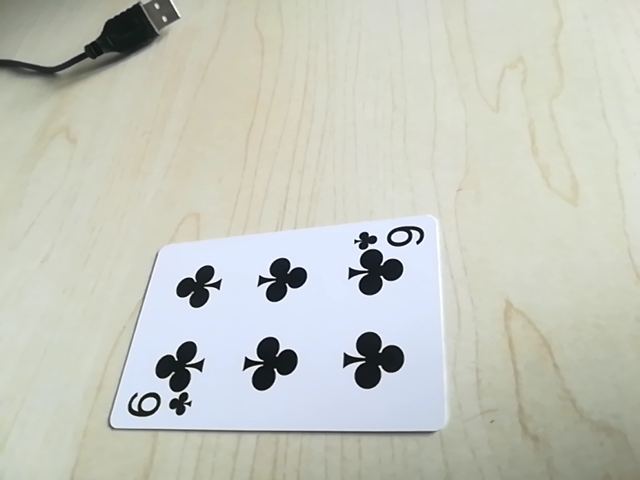mh 6: (119, 390, 190, 425), (353, 224, 425, 255)
